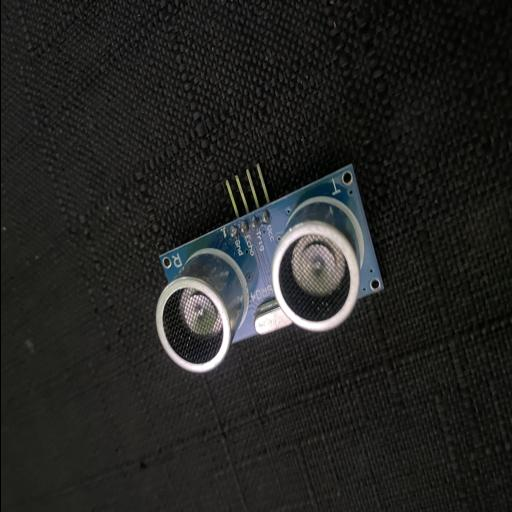Ultrasonic Sensor: (154, 164, 384, 374)
